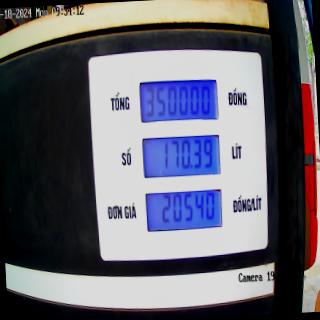screen: (136, 72, 226, 238)
